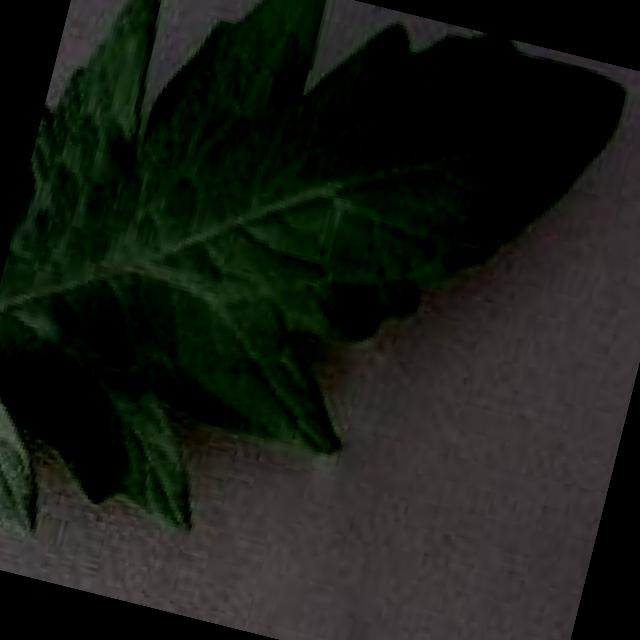healthy: (0, 0, 630, 535)
